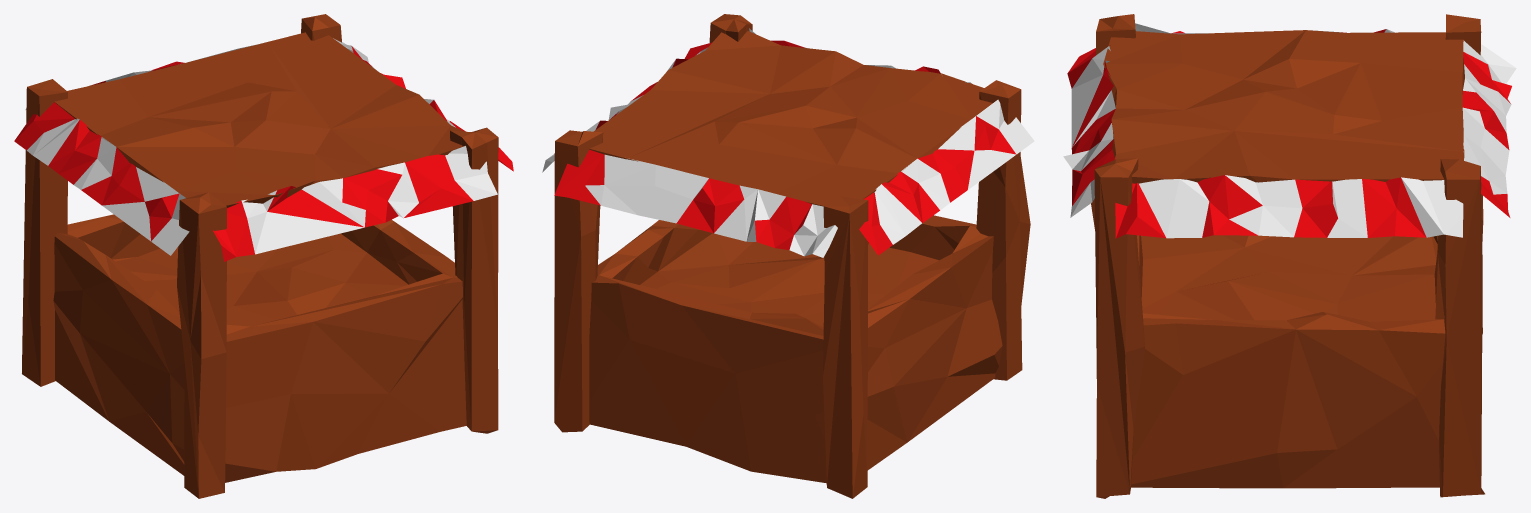
Rendered from Market.fbx.
3 views of the same model, side by side, from view 1: azimuth 30°, elevation 25°; view 2: azimuth 150°, elevation 25°; view 3: azimuth 270°, elevation 25° (orthographic). The views are drawn at different scales.
Visible parts, largest first — view 1: Market; view 2: Market; view 3: Market.
Part boxes in pixels (left/top/right/bottom): Market: left=14, top=14, right=513, bottom=498; Market: left=542, top=14, right=1034, bottom=498; Market: left=1063, top=14, right=1516, bottom=498.
Size of the model in its own units: 257 by 212 by 261.
